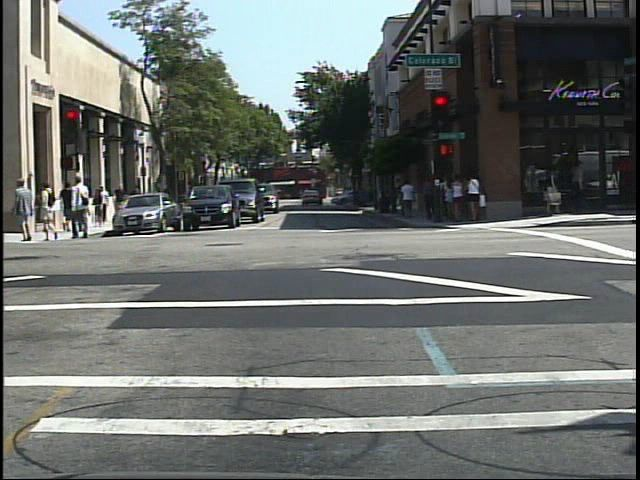person: (69, 173, 98, 244), (38, 181, 64, 245), (14, 173, 36, 245)
